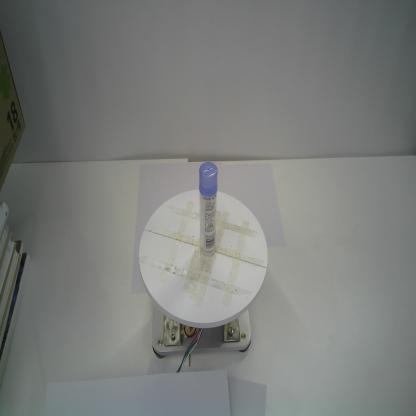Stationery: (198, 161, 218, 257)
